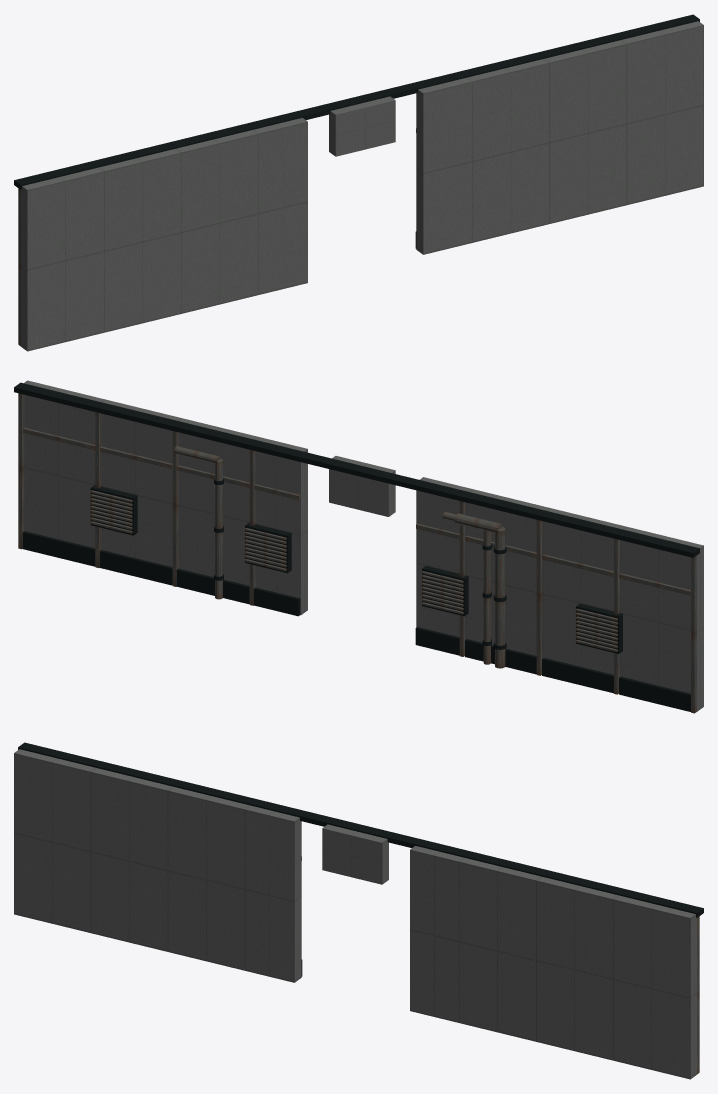
File: ExitFacade.obj
The picture shows the model from 3 angles, top to bottom: view 1: azimuth 30°, elevation 25°; view 2: azimuth 150°, elevation 25°; view 3: azimuth 330°, elevation 25°; orthographic projection.
Visible parts, largest first — view 1: ExitFacade; view 2: ExitFacade; view 3: ExitFacade.
Part boxes in pixels (bbox=[...]): ExitFacade: bbox=[14, 14, 703, 351]; ExitFacade: bbox=[14, 380, 703, 713]; ExitFacade: bbox=[14, 742, 703, 1079].
Size of the model in its own units: 23.8 by 5.45 by 0.955.
3 materials, 2 textured.
